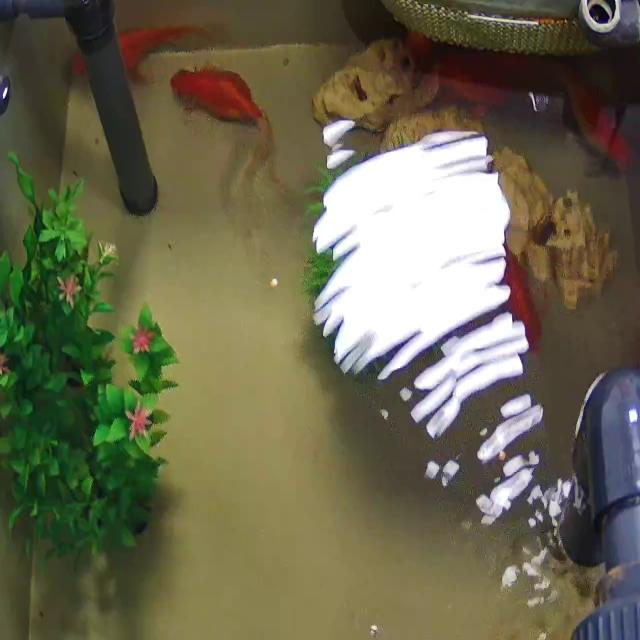fish: (178, 59, 292, 194), (472, 215, 554, 358), (80, 8, 217, 89), (556, 59, 640, 174), (448, 52, 543, 106)
